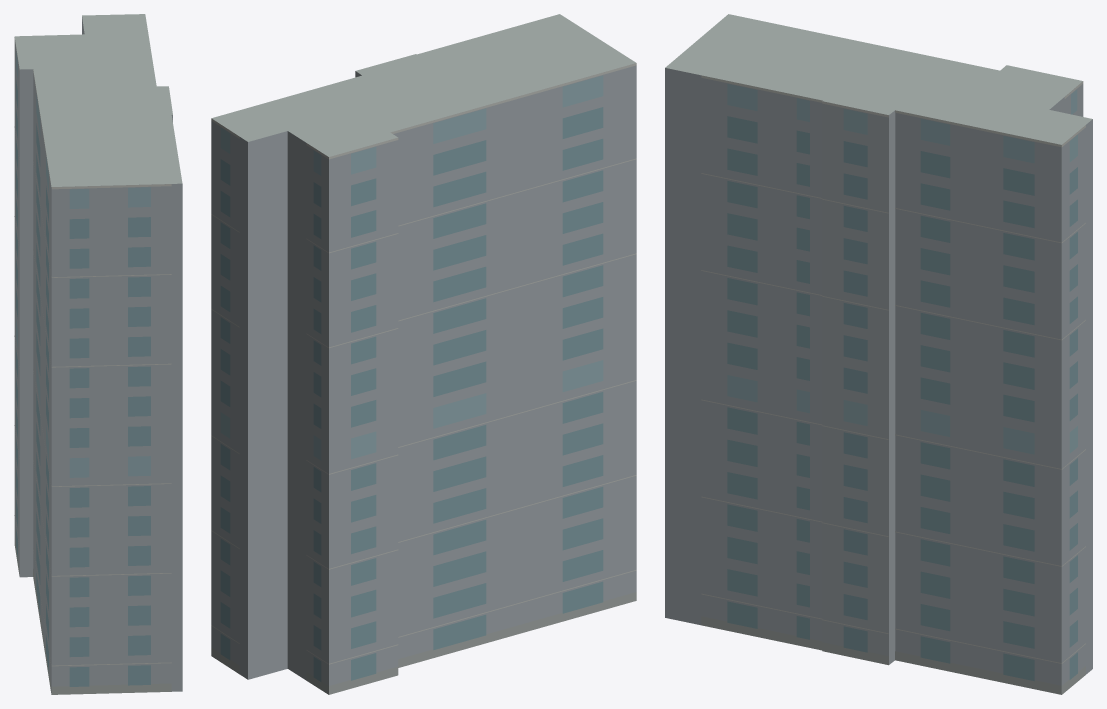
The model's file is survey-upis-32981664.glb.
3 views of the same model, side by side, from view 1: azimuth 30°, elevation 25°; view 2: azimuth 150°, elevation 25°; view 3: azimuth 270°, elevation 25° (orthographic). The views are drawn at different scales.
Parts seen in each view (by area): view 1: survey-upis-32981664.tmp; view 2: survey-upis-32981664.tmp; view 3: survey-upis-32981664.tmp.
Part boxes in pixels (x1,y1,x2,y2): survey-upis-32981664.tmp: (14, 14, 182, 694); survey-upis-32981664.tmp: (211, 14, 636, 694); survey-upis-32981664.tmp: (665, 14, 1092, 694).
Bounding box in the file's own units: 28.1 × 55 × 38.77.
